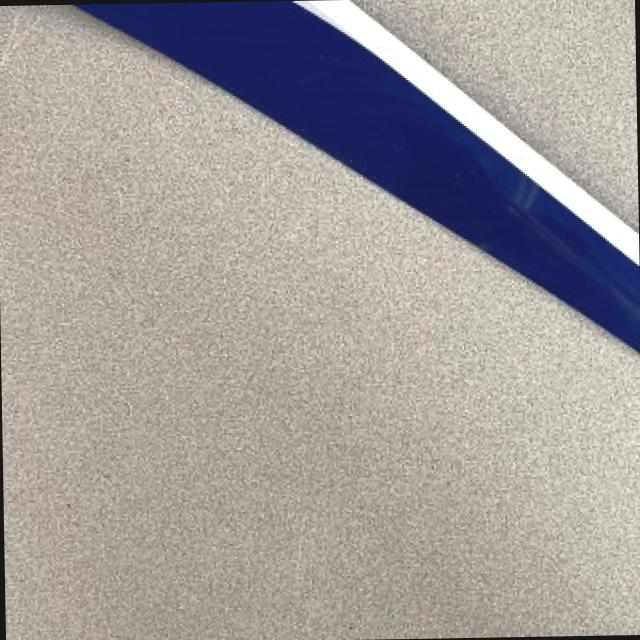healthy: (357, 0, 636, 225)
